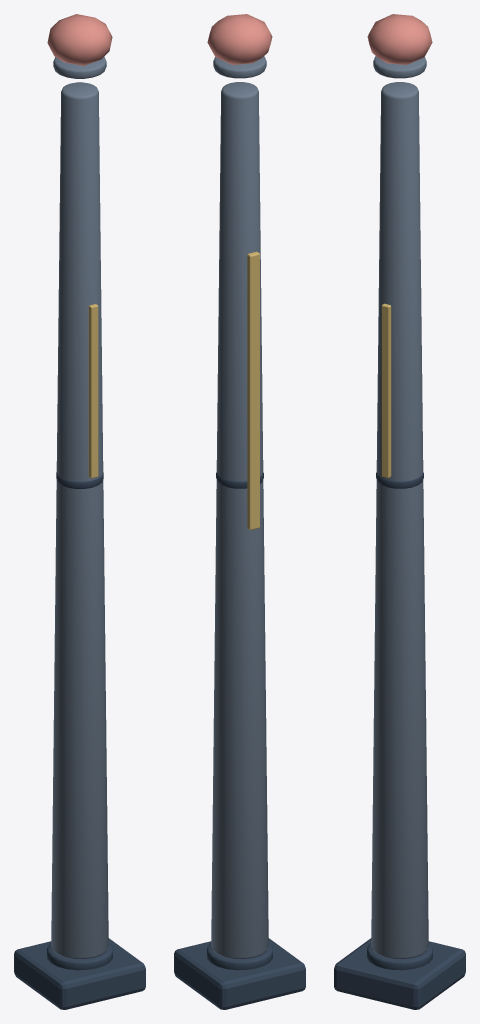
Rendered from PylonAccent_L.fbx.
3 views of the same model, side by side, from view 1: azimuth 30°, elevation 25°; view 2: azimuth 210°, elevation 25°; view 3: azimuth 330°, elevation 25° (orthographic).
Visible parts, largest first — view 1: PylonAccent_L; view 2: PylonAccent_L; view 3: PylonAccent_L.
Boxes of the visible parts, <box> form: PylonAccent_L: <box>14,14,145,1009</box>; PylonAccent_L: <box>174,14,305,1009</box>; PylonAccent_L: <box>334,14,465,1009</box>.
Bounding box in the file's own units: 0.9 × 9.62 × 0.9.
